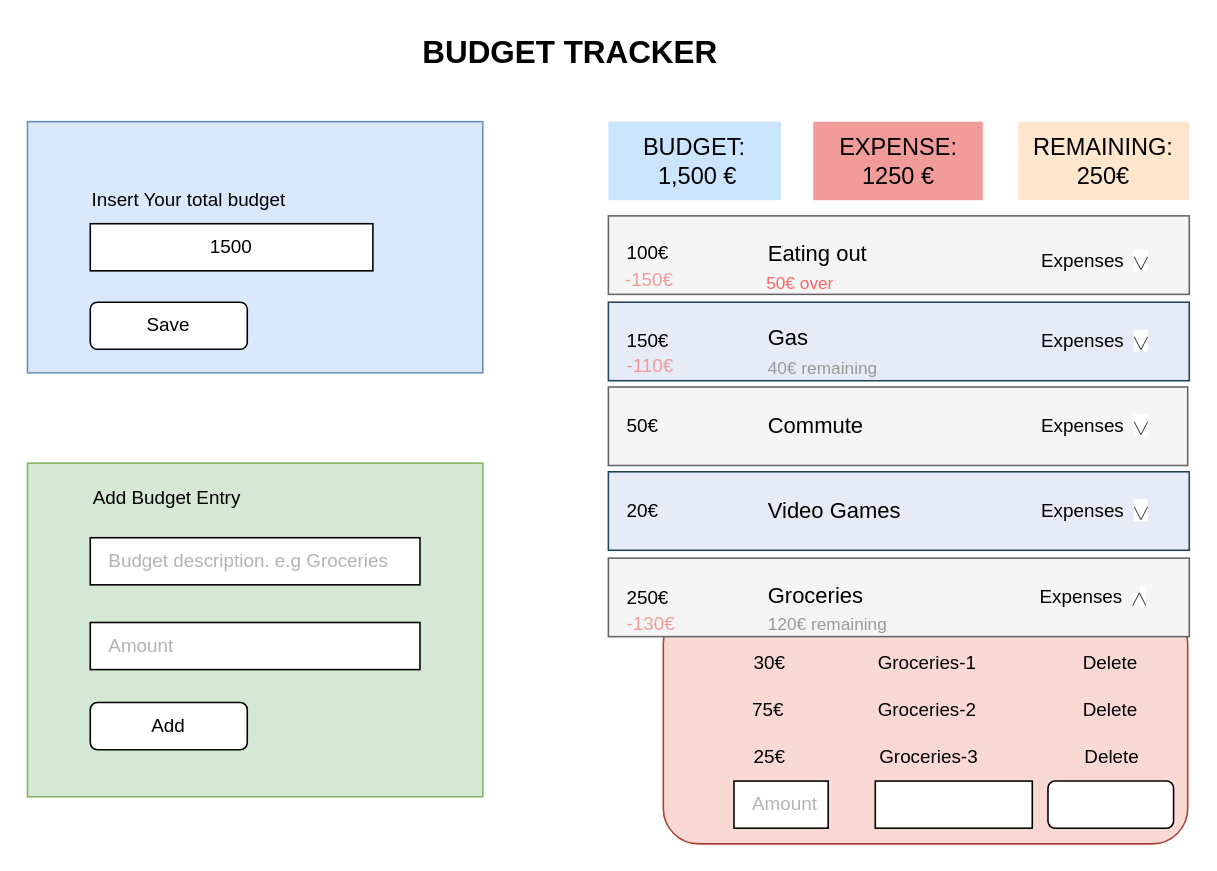
Image size: 1217x871. Some labels were removed from this diagram. The centre of each missing label's shape, as x and y in pixels:
Add expense: the point at 1110,804
expense: the point at 953,804
